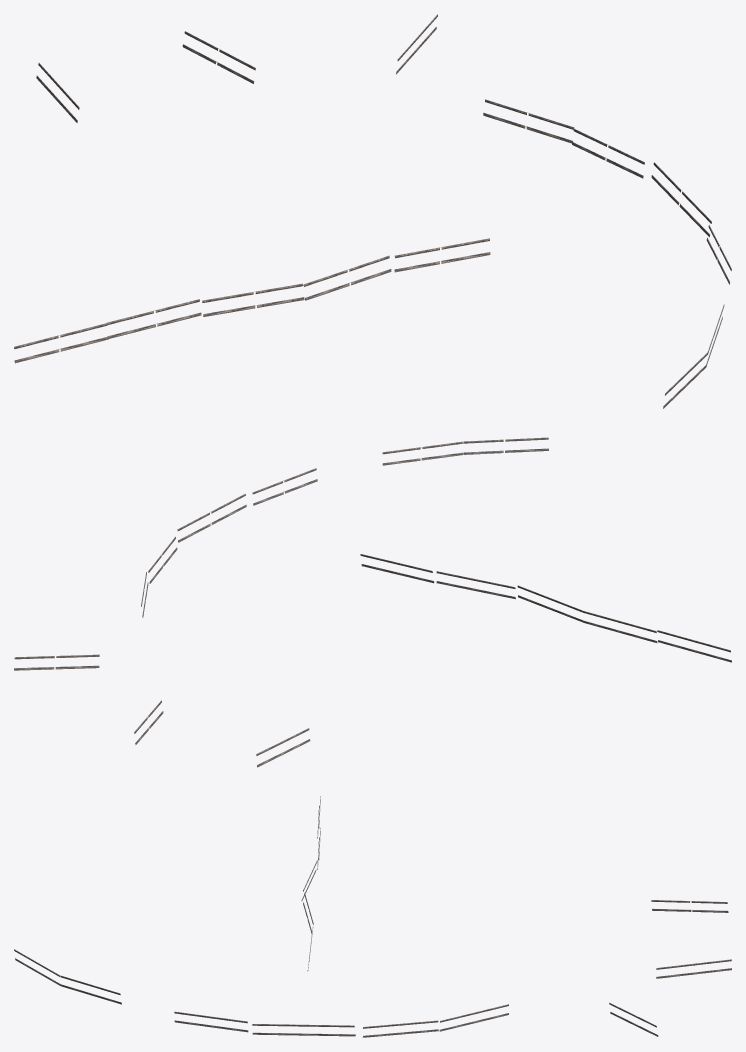
File: material3.020_lev3.glb
The picture shows the model from 3 angles, top to bottom: view 1: azimuth 30°, elevation 25°; view 2: azimuth 150°, elevation 25°; view 3: azimuth 270°, elevation 25°; orthographic projection. The views are drawn at different scales.
Parts seen in each view (by area): view 1: material3.020_lev3; view 2: material3.020_lev3; view 3: material3.020_lev3.
Boxes of the visible parts, x1=… form: material3.020_lev3: x1=14, y1=14, x2=731, y2=408; material3.020_lev3: x1=14, y1=437, x2=731, y2=767; material3.020_lev3: x1=14, y1=796, x2=731, y2=1037.
Bounding box in the file's own units: 2.41 × 0.0984 × 3.13.
1 material, 1 textured.
